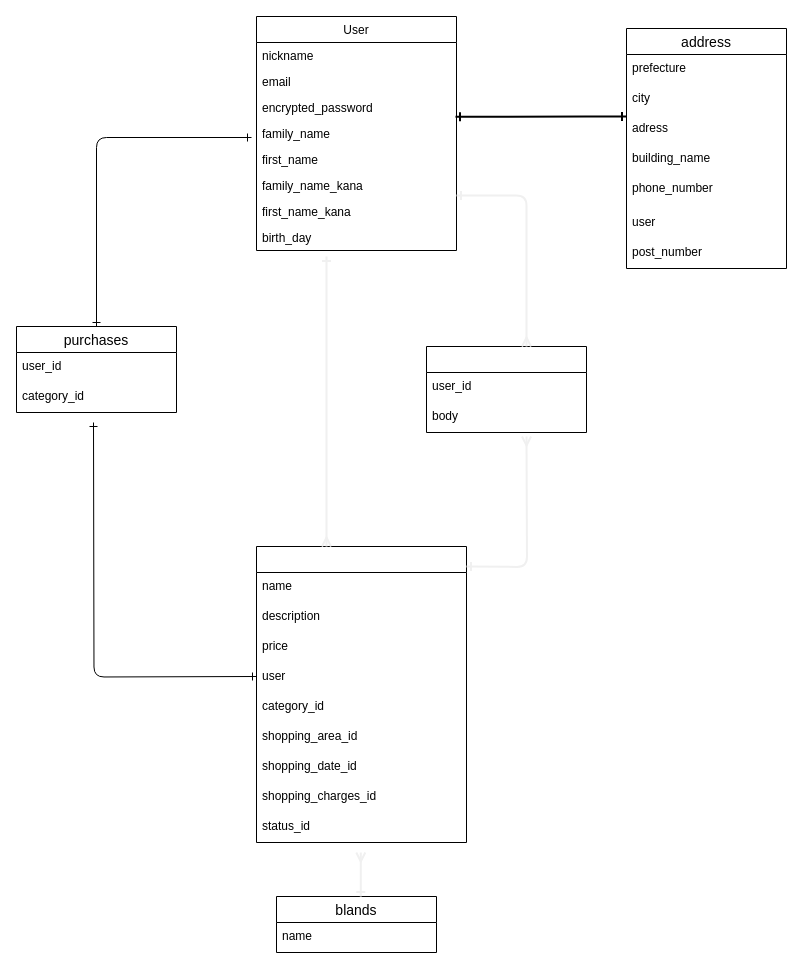
The diagram is 803 pixels wide and 969 high, and some of its shapes have lost their labels. Here are the shapes that lost their labels. From the top down, the box of each, then its label:
(426, 346, 586, 432): comments
(256, 546, 466, 842): product(商品情報）
